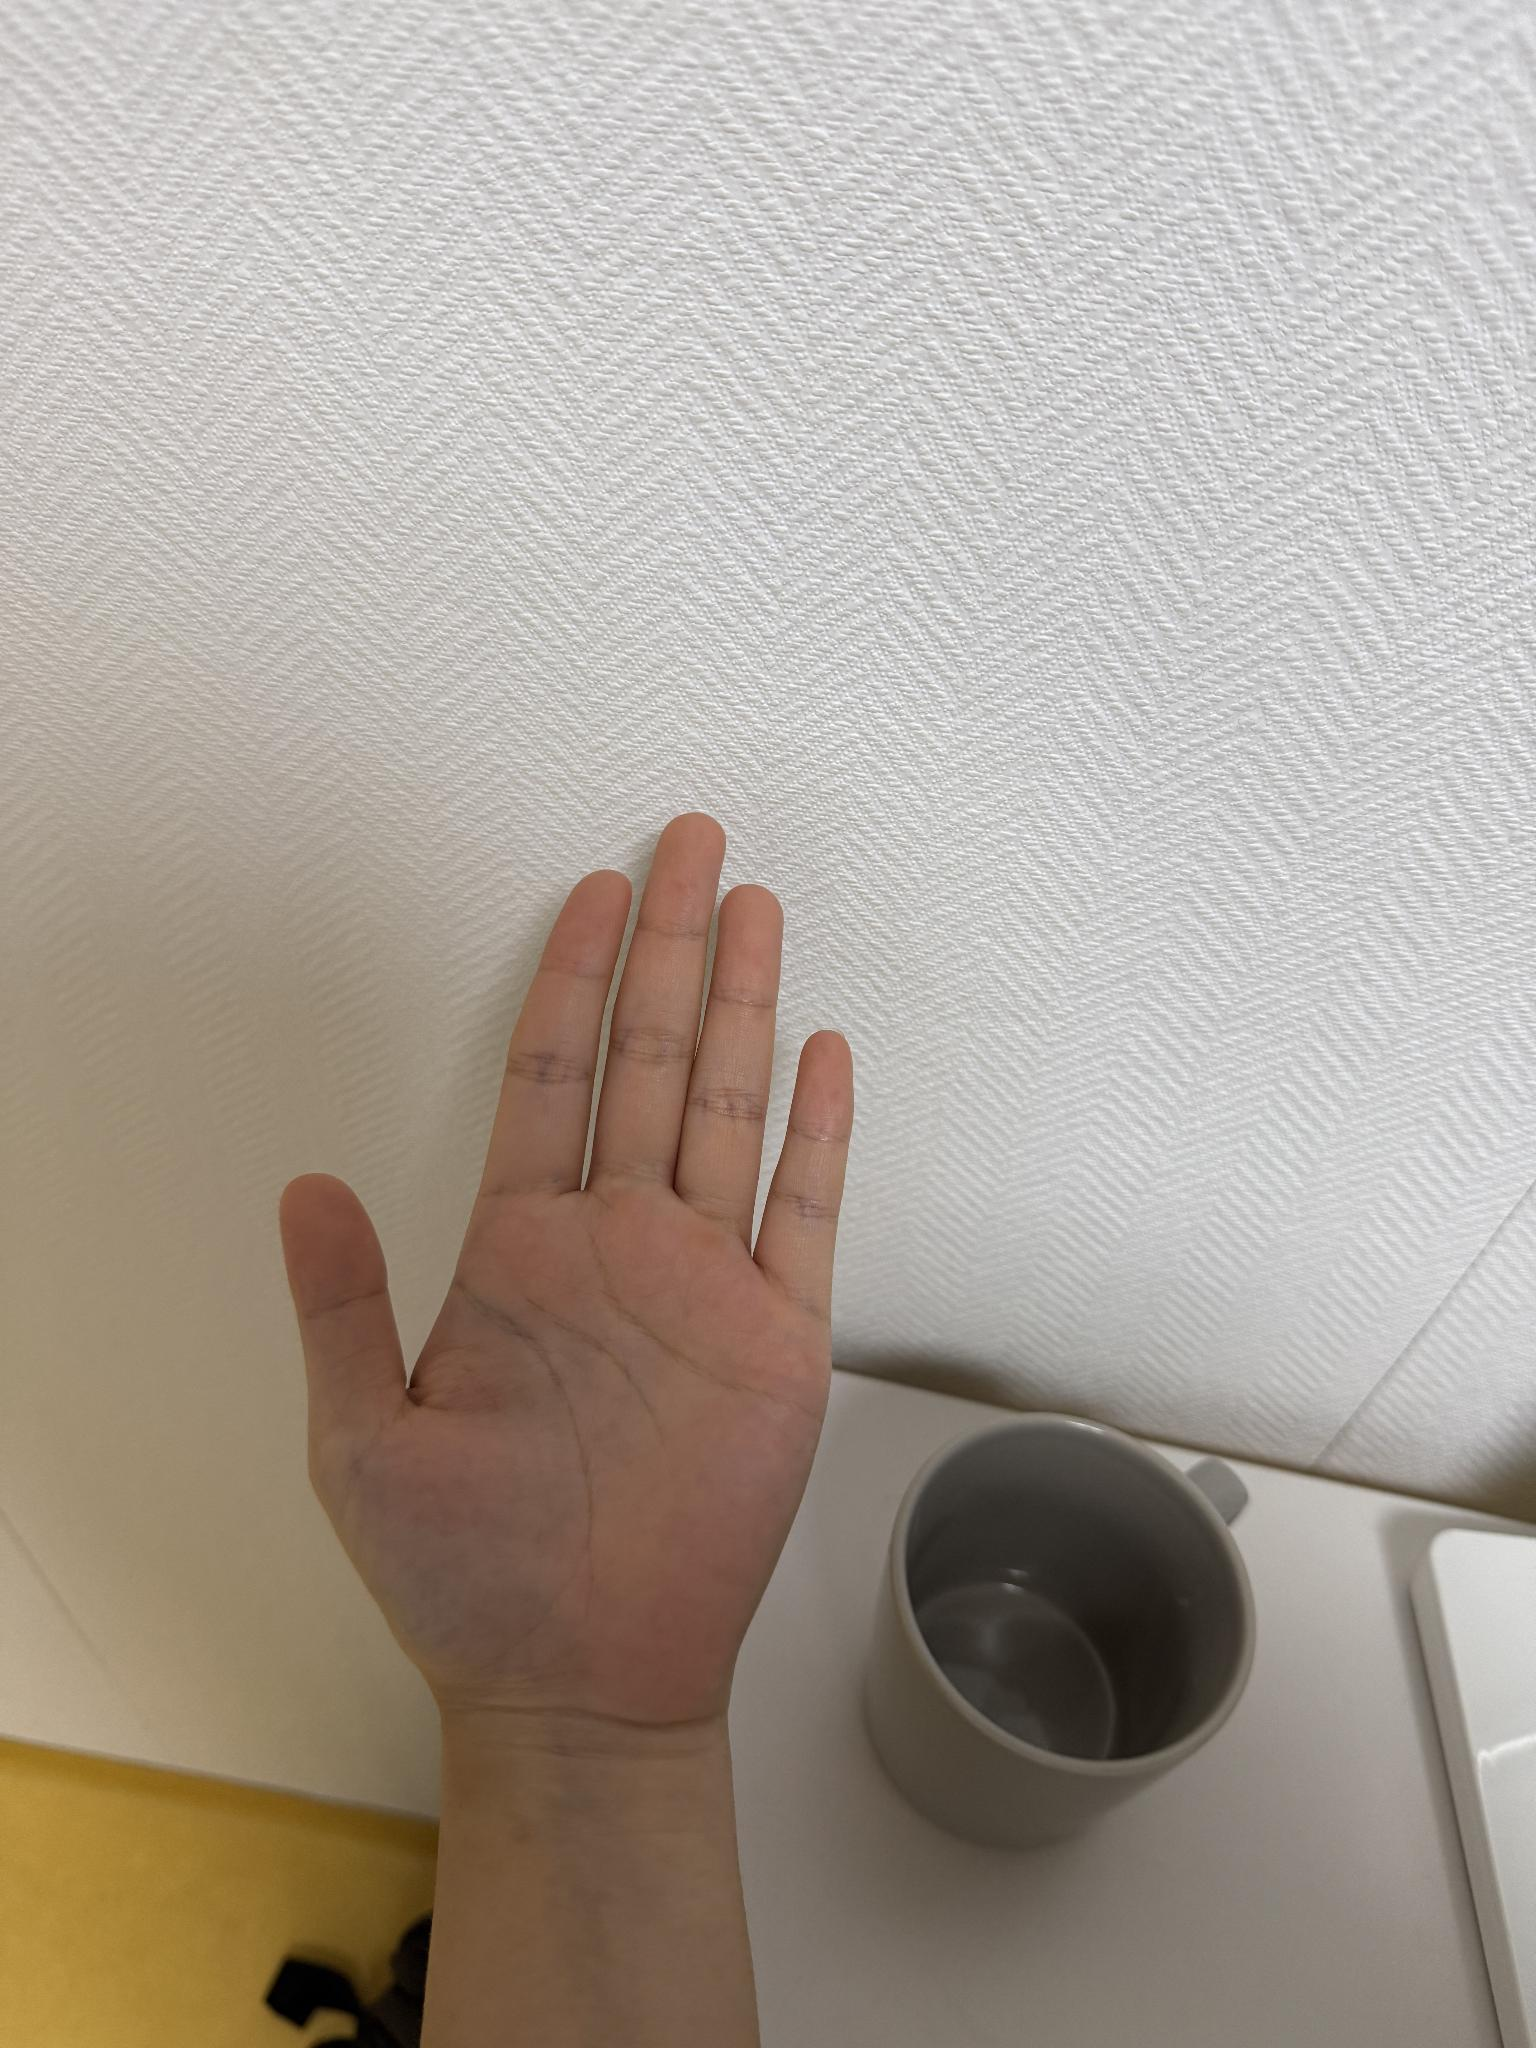open: (258, 776, 868, 1758)
